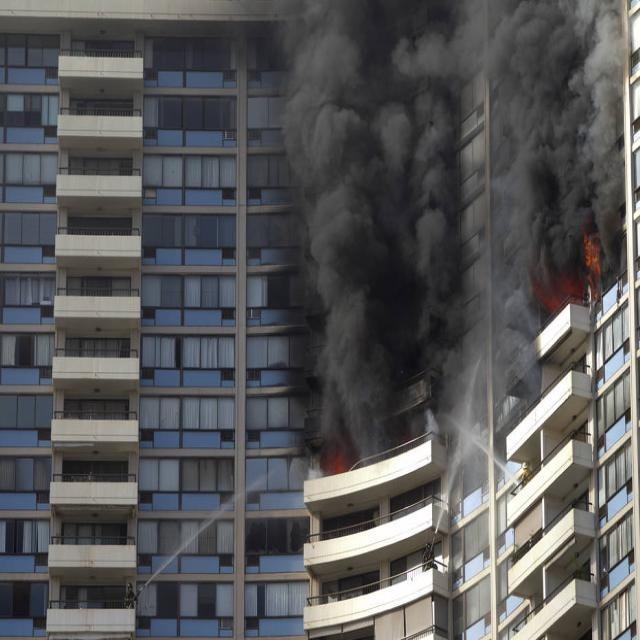Fire: (532, 230, 604, 316), (319, 444, 348, 474)
Smoke: (271, 0, 635, 471)
